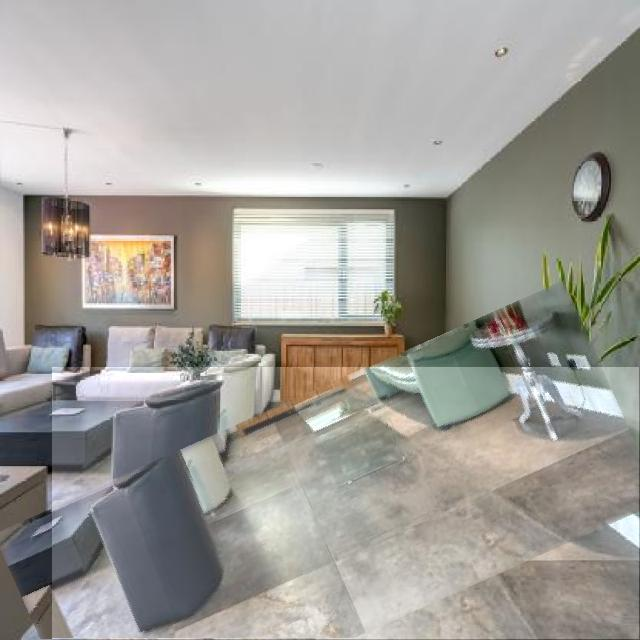floor: (53, 368, 639, 639)
